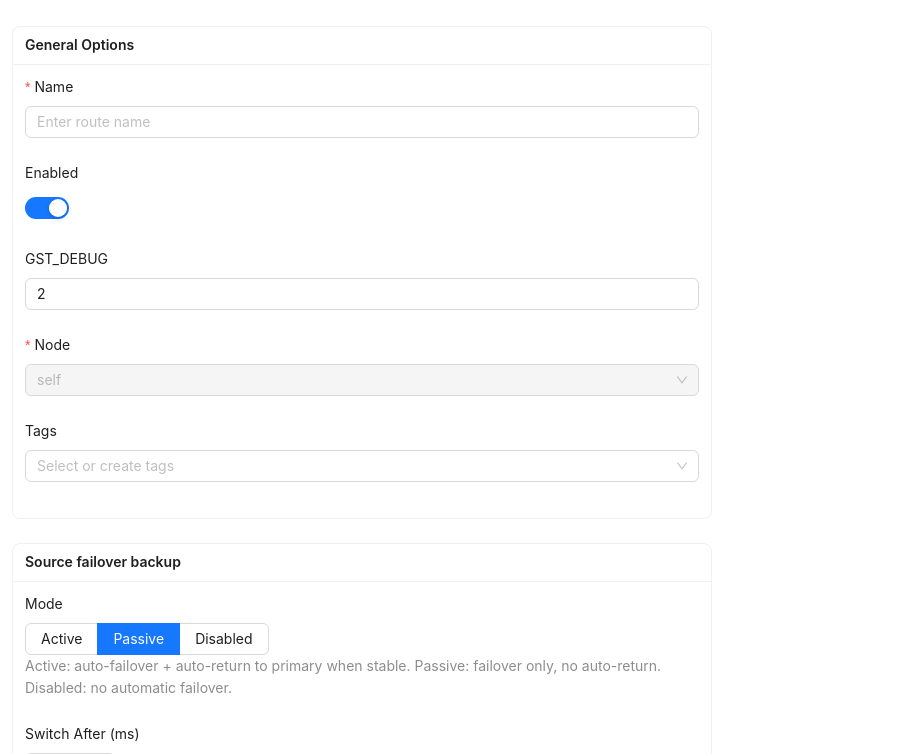
Test: BackupConfigForm › shows active-only backup fields when mode=active
Expected: the text "Source failover backup" is shown, x1=25 y1=553 x2=181 y2=570
Click the radio button labelled "Active" at (62, 639), box x1=25 y1=623 x2=98 y2=655
(page scrolled)
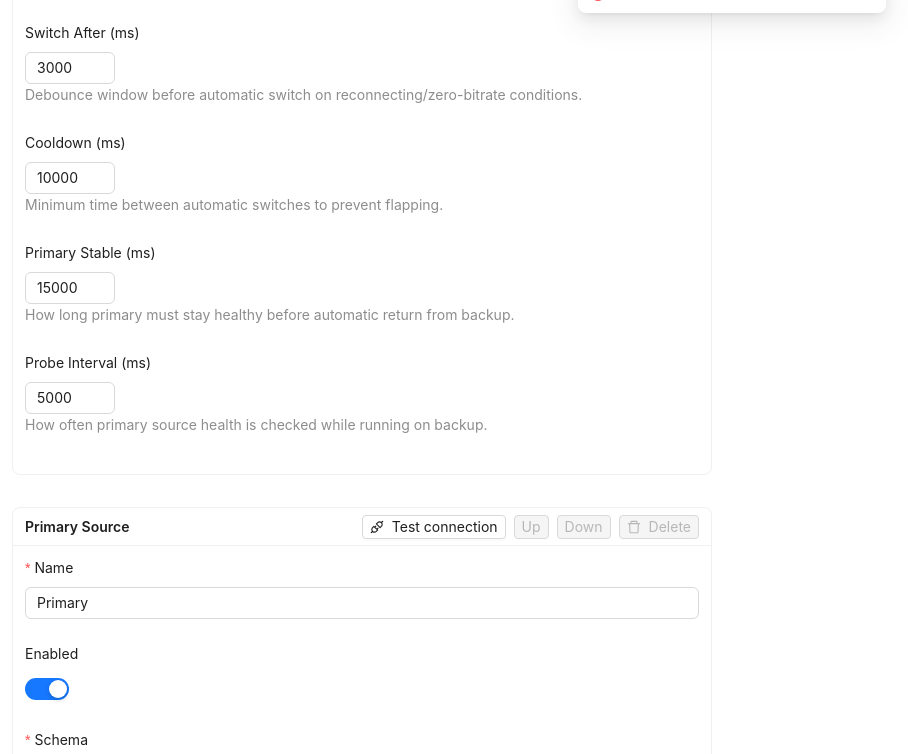
Result: the text "Primary Stable (ms)" is shown at x1=25 y1=242 x2=170 y2=264
Result: the text "Probe Interval (ms)" is shown at x1=25 y1=352 x2=165 y2=374
